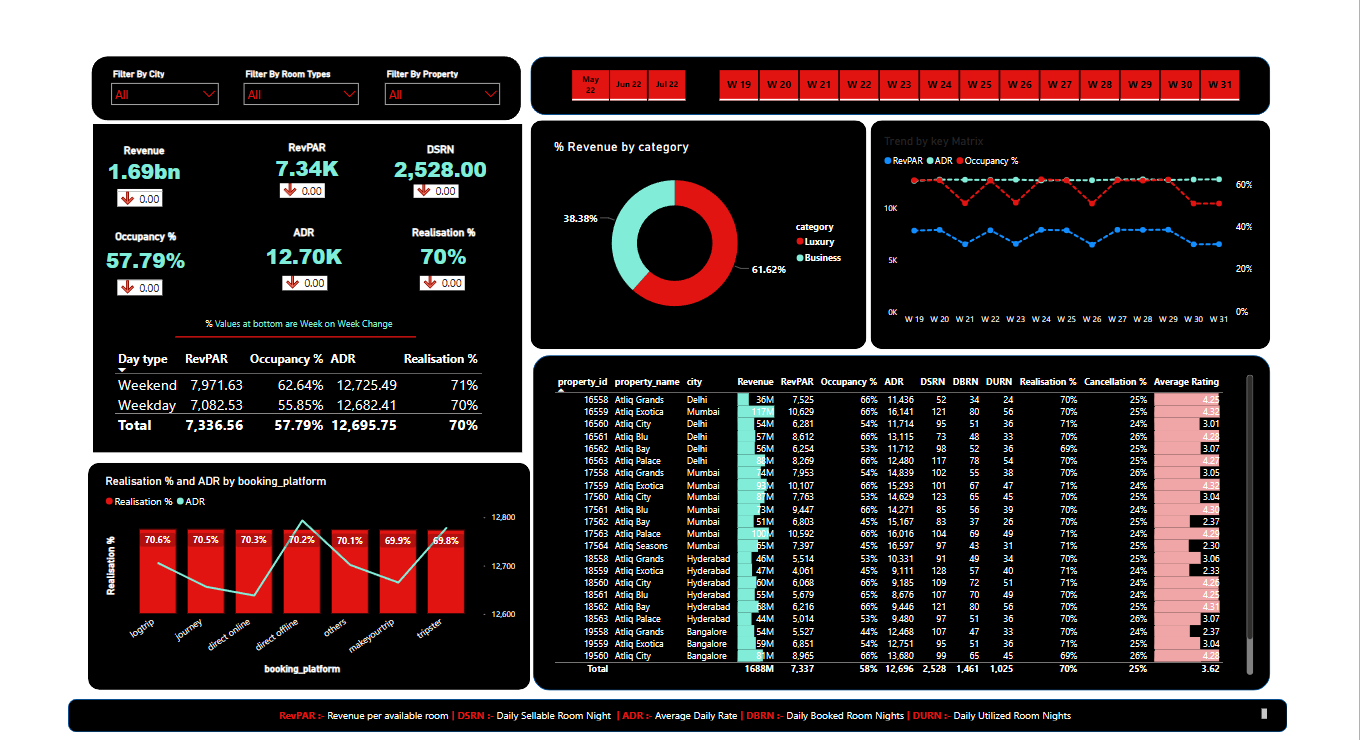

What the dashboard file says about the page in this screenshot:
{"tool":"powerbi","page":{"name":"Page 1","canvas":[1800,1100],"ordinal":0},"visuals":[{"type":"shape","box":[0,1033.6,1800.4,49],"z":0},{"type":"shape","box":[686.4,525.6,1088.5,495],"z":1000},{"type":"shape","box":[1184.6,178.5,590.3,338],"z":2000},{"type":"shape","box":[682.5,178.5,496.2,338],"z":3000},{"type":"shape","box":[29.4,684.5,653.1,335.4],"z":4000},{"type":"shape","box":[37.3,184.4,633.5,484.4],"z":5000},{"type":"shape","box":[35.3,84.3,633.5,94.1],"z":6000},{"type":"tableEx","fields":{"Values":["key_measures (2).Realisation WoW change %"]},"box":[513.7,371.8,105.9,72.6],"z":7000},{"type":"tableEx","fields":{"Values":["key_measures (2).Realisation WoW change %"]},"box":[309.9,371.8,105.9,72.6],"z":8000},{"type":"tableEx","fields":{"Values":["key_measures (2).Realisation WoW change %"]},"box":[66.3,378.5,100,72.6],"z":9000},{"type":"tableEx","fields":{"Values":["key_measures (2).Realisation WoW change %"]},"box":[306.2,234.6,92.2,78.4],"z":10000},{"type":"tableEx","fields":{"Values":["key_measures (2).Realisation WoW change %"]},"box":[504.7,234.6,92.2,78.4],"z":11000},{"type":"tableEx","fields":{"Values":["dim_hotels.property_id","dim_hotels.property_name","dim_hotels.city","key_measures (2).Revenue","key_measures (2).RevPAR","key_measures (2).Occupancy %","key_measures (2).ADR","key_measures (2).DSRN","key_measures (2).DBRN","key_measures (2).DURN","key_measures (2).Realisation %","key_measures (2).Cancellation %"]},"box":[712.6,549.6,1042.3,452.9],"z":12000},{"type":"slicer","fields":{"Values":["dim_hotels.city"]},"box":[53,98.1,178.5,58.8],"z":13000},{"type":"slicer","fields":{"Values":["dim_rooms.room_class"]},"box":[249.1,98.1,190.2,58.8],"z":14000},{"type":"tableEx","fields":{"Values":["key_measures (2).Realisation WoW change %"]},"box":[66.3,247.1,92.2,70.6],"z":15000},{"type":"donutChart","title":"% Revenue by category","fields":{"Category":["dim_hotels.category"],"Y":["key_measures (2).Revenue"]},"box":[711.9,205.9,445.2,286.3],"z":16000},{"type":"card","title":"Revenue","fields":{"Values":["key_measures (2).Revenue"]},"box":[43.9,213.8,136.1,66],"z":17000},{"type":"card","title":"DSRN","fields":{"Values":["key_measures (2).DSRN"]},"box":[476.9,211.4,147.8,61.4],"z":18000},{"type":"card","title":"Occupancy %","fields":{"Values":["key_measures (2).Occupancy %"]},"box":[48.6,341.3,133.4,72.6],"z":19000},{"type":"card","title":"RevPAR","fields":{"Values":["key_measures (2).RevPAR"]},"box":[298.4,211.1,107.8,62],"z":20000},{"type":"card","title":"ADR","fields":{"Values":["key_measures (2).ADR"]},"box":[280.5,336.5,135.3,72.6],"z":21000},{"type":"card","title":"Realisation %","fields":{"Values":["key_measures (2).Realisation %"]},"box":[491.5,336.5,127.5,72.6],"z":22000},{"type":"lineChart","title":"Trend by key Matrix","fields":{"Category":["dim_date.mmm yy.Variation.Date Hierarchy.Month","dim_date.week no"],"Y":["key_measures (2).RevPAR","key_measures (2).ADR"],"Y2":["key_measures (2).Occupancy %"]},"box":[1200.3,200,553.1,292.2],"z":23000},{"type":"lineStackedColumnComboChart","fields":{"Category":["fact_bookings.booking_platform"],"Y":["key_measures (2).Realisation %"],"Y2":["key_measures (2).ADR"]},"box":[49,702.1,619.7,300.1],"z":24000},{"type":"tableEx","fields":{"Values":["dim_date.day_type","key_measures (2).RevPAR","key_measures (2).Occupancy %","key_measures (2).ADR","key_measures (2).Realisation %"]},"box":[62.8,515.8,594.2,135.3],"z":25000},{"type":"shape","box":[682.5,84.3,1092.4,86.3],"z":26000},{"type":"slicer","fields":{"Values":["dim_date.week no"]},"box":[935.5,98.1,817.8,58.8],"z":27000},{"type":"slicer","fields":{"Values":["dim_date.mmm yy"]},"box":[717.8,98.1,217.7,58.8],"z":28000},{"type":"slicer","fields":{"Values":["dim_hotels.property_name"]},"box":[457,98.1,190.2,58.8],"z":29000},{"type":"textbox","box":[29.4,1043,1745.5,27],"z":30000},{"type":"textbox","box":[198.1,464.8,315.8,27.5],"z":31000},{"type":"shape","box":[158.9,349.1,355,300.1],"z":32000}]}

Visuals, with their boxes on the page's 1800x1100 design canvas (x1, y1, x2, y2). These are canvas units, not pixel positions in the 1360x740 screenshot, which may show the page scaled, cropped or inside an application window:
shape: locate(0, 1034, 1800, 1083)
shape: locate(686, 526, 1775, 1021)
shape: locate(1185, 178, 1775, 516)
shape: locate(682, 178, 1179, 516)
shape: locate(29, 684, 682, 1020)
shape: locate(37, 184, 671, 669)
shape: locate(35, 84, 669, 178)
tableEx - key_measures (2).Realisation WoW change %: locate(514, 372, 620, 444)
tableEx - key_measures (2).Realisation WoW change %: locate(310, 372, 416, 444)
tableEx - key_measures (2).Realisation WoW change %: locate(66, 378, 166, 451)
tableEx - key_measures (2).Realisation WoW change %: locate(306, 235, 398, 313)
tableEx - key_measures (2).Realisation WoW change %: locate(505, 235, 597, 313)
tableEx - dim_hotels.property_id x dim_hotels.property_name: locate(713, 550, 1755, 1002)
slicer - dim_hotels.city: locate(53, 98, 232, 157)
slicer - dim_rooms.room_class: locate(249, 98, 439, 157)
tableEx - key_measures (2).Realisation WoW change %: locate(66, 247, 158, 318)
"% Revenue by category" donutChart: locate(712, 206, 1157, 492)
"Revenue" card: locate(44, 214, 180, 280)
"DSRN" card: locate(477, 211, 625, 273)
"Occupancy %" card: locate(49, 341, 182, 414)
"RevPAR" card: locate(298, 211, 406, 273)
"ADR" card: locate(280, 336, 416, 409)
"Realisation %" card: locate(492, 336, 619, 409)
"Trend by key Matrix" lineChart: locate(1200, 200, 1753, 492)
lineStackedColumnComboChart - fact_bookings.booking_platform x key_measures (2).Realisation %: locate(49, 702, 669, 1002)
tableEx - dim_date.day_type x key_measures (2).RevPAR: locate(63, 516, 657, 651)
shape: locate(682, 84, 1775, 171)
slicer - dim_date.week no: locate(936, 98, 1753, 157)
slicer - dim_date.mmm yy: locate(718, 98, 936, 157)
slicer - dim_hotels.property_name: locate(457, 98, 647, 157)
textbox: locate(29, 1043, 1775, 1070)
textbox: locate(198, 465, 514, 492)
shape: locate(159, 349, 514, 649)
